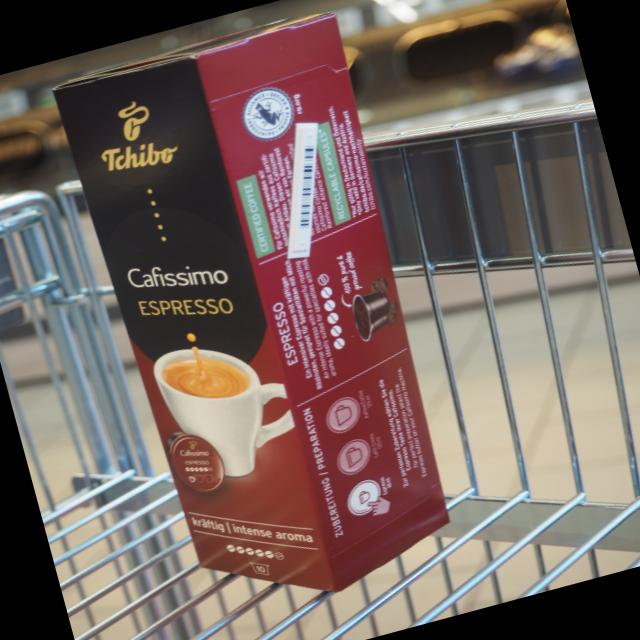Simo Es Kraft: (46, 49, 342, 596)
